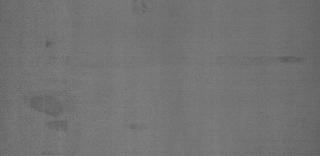oil spot: (24, 86, 72, 134), (264, 50, 300, 64)
water spot: (127, 0, 159, 16)
